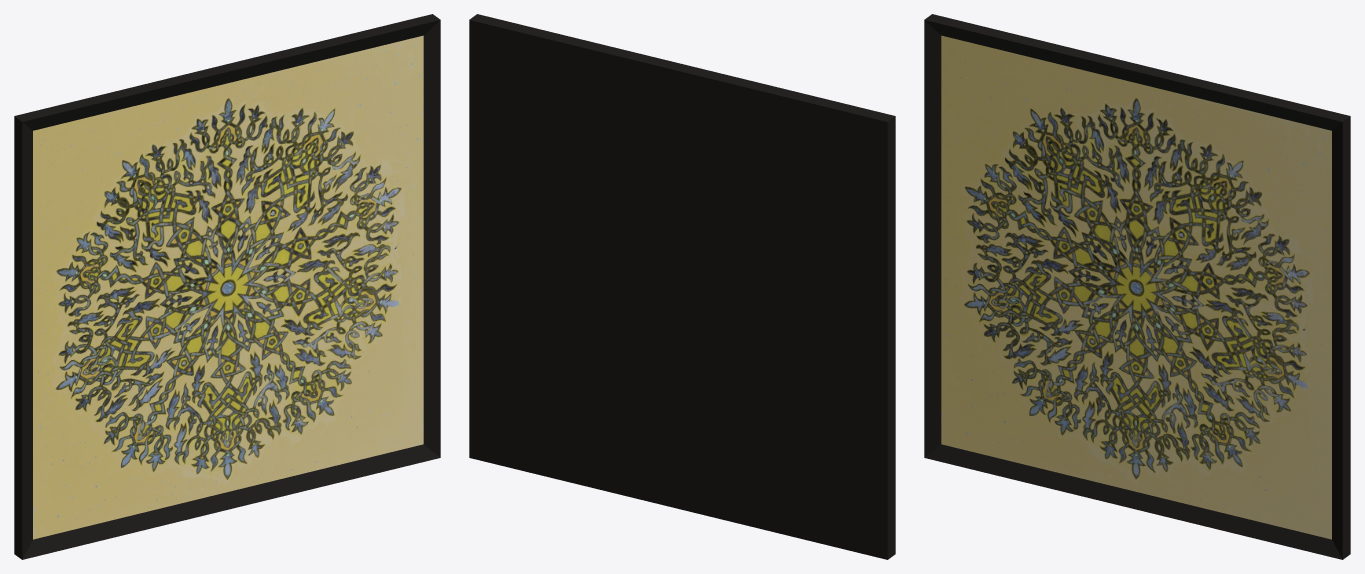
Rendered from slipper-orchids-orchids30-manipura-yellow-a0-stained-black-v2.glb.
The picture shows the model from 3 angles, left to right: view 1: azimuth 30°, elevation 25°; view 2: azimuth 150°, elevation 25°; view 3: azimuth 330°, elevation 25°; orthographic projection.
Parts seen in each view (by area): view 1: FramedPrint; view 2: FramedPrint; view 3: FramedPrint.
Boxes of the visible parts, x1=… form: FramedPrint: x1=14, y1=14, x2=440, y2=559; FramedPrint: x1=469, y1=14, x2=895, y2=559; FramedPrint: x1=924, y1=14, x2=1350, y2=559.
Bounding box in the file's own units: 0.9 × 0.9 × 0.03.
2 materials, 1 textured.
